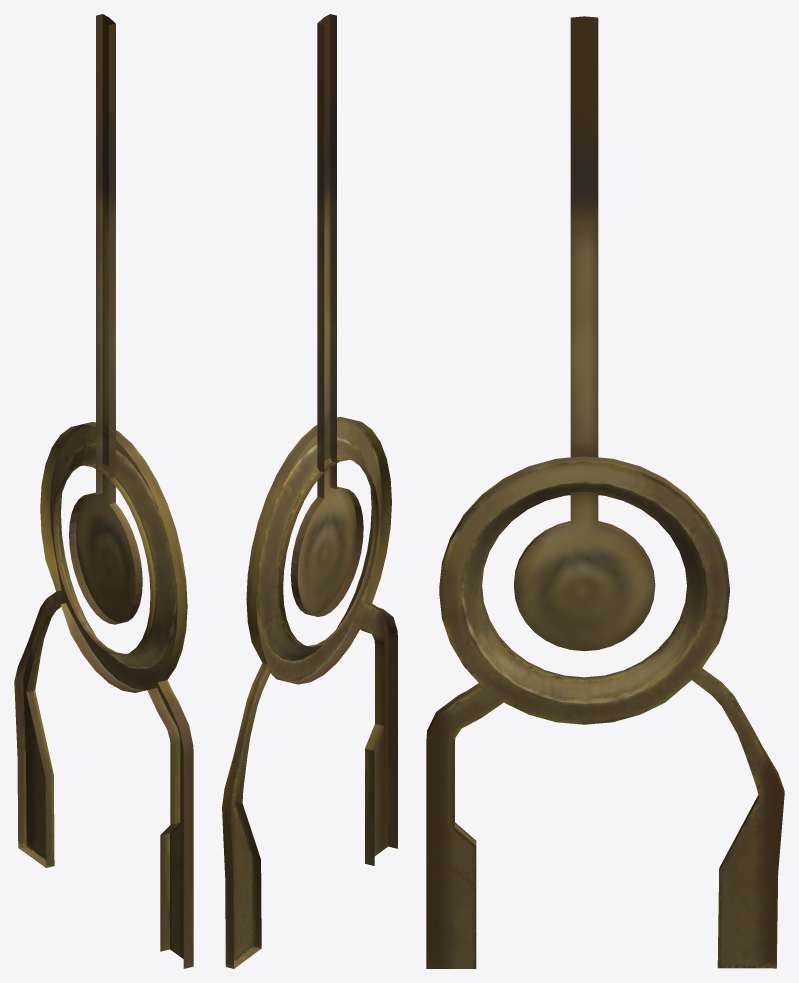
File: PenduloST_T.obj
3 renders of one model, left to right at view 1: azimuth 30°, elevation 25°; view 2: azimuth 150°, elevation 25°; view 3: azimuth 270°, elevation 25°, orthographic. The views are drawn at different scales.
Parts seen in each view (by area): view 1: 03PENDULO_ORO01.001; view 2: 03PENDULO_ORO01.001; view 3: 03PENDULO_ORO01.001.
Part boxes in pixels (x1,y1,x2,y2): 03PENDULO_ORO01.001: (14,14,193,968); 03PENDULO_ORO01.001: (222,14,397,968); 03PENDULO_ORO01.001: (426,16,784,968).
Size of the model in its own units: 0.6629 by 33.58 by 11.5.
